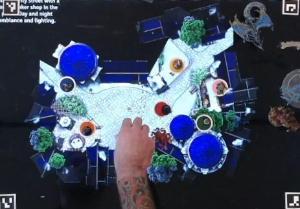blue: (57, 75, 76, 93)
green: (193, 112, 213, 132)
orange: (78, 119, 95, 136)
pink: (210, 77, 229, 96)
red: (151, 99, 173, 118)
yellow: (168, 55, 185, 72)
